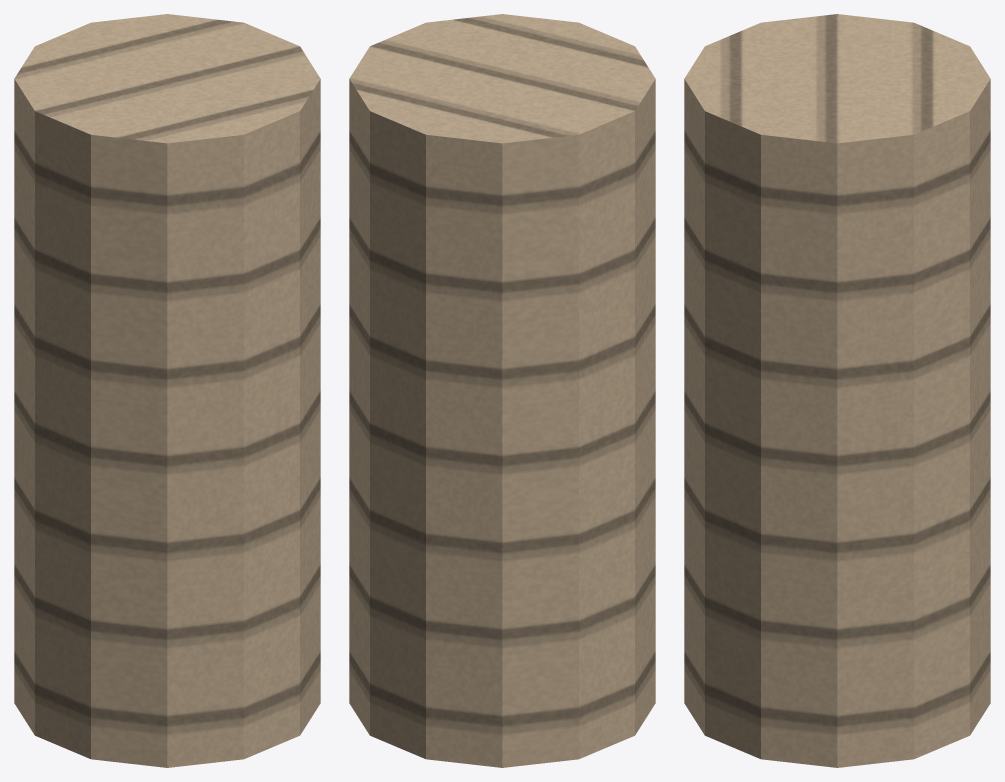
File: park_drinking_fountain.glb
The picture shows the model from 3 angles, left to right: view 1: azimuth 30°, elevation 25°; view 2: azimuth 150°, elevation 25°; view 3: azimuth 270°, elevation 25°; orthographic projection.
Parts seen in each view (by area): view 1: park_drinking_fountain-col; view 2: park_drinking_fountain-col; view 3: park_drinking_fountain-col.
Part boxes in pixels (left/top/right/bottom): park_drinking_fountain-col: left=14, top=14, right=320, bottom=767; park_drinking_fountain-col: left=349, top=14, right=655, bottom=767; park_drinking_fountain-col: left=684, top=14, right=990, bottom=767.
Bounding box in the file's own units: 0.4 × 0.9 × 0.4.
Materials: 1 (1 with a texture image).
